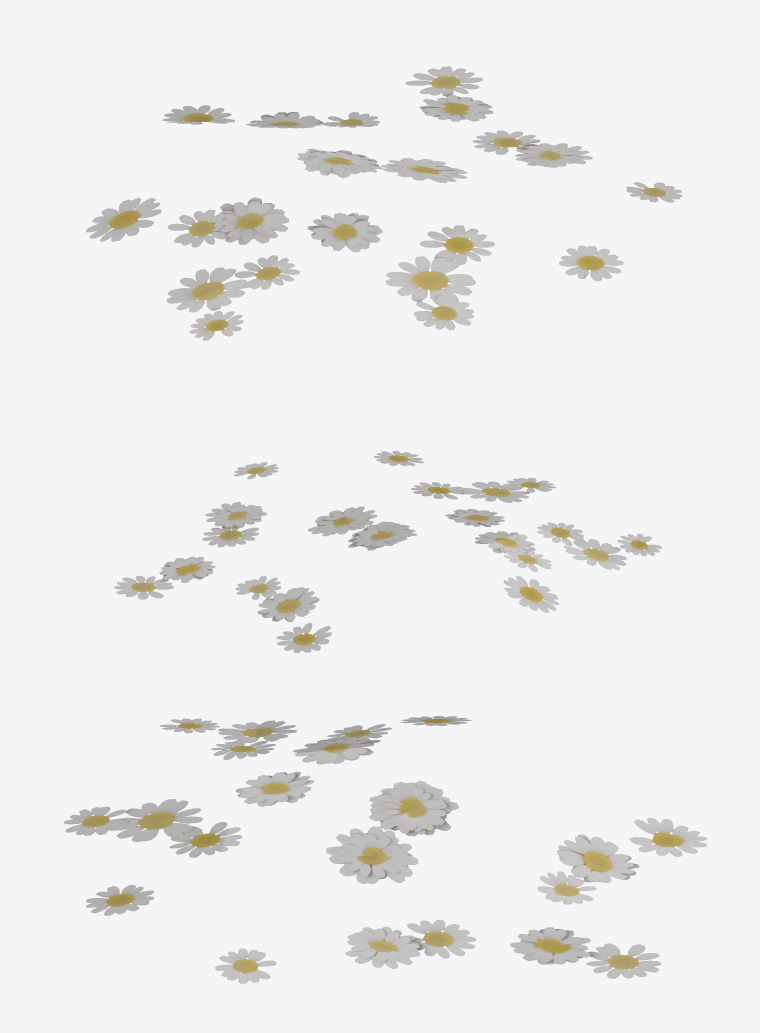
Rendered from Flowers-03.gltf.
3 renders of one model, top to bottom at view 1: azimuth 30°, elevation 25°; view 2: azimuth 150°, elevation 25°; view 3: azimuth 270°, elevation 25°, orthographic. The views are drawn at different scales.
Visible parts, largest first — view 1: Flowers-03; view 2: Flowers-03; view 3: Flowers-03.
Part boxes in pixels (bbox=[...]): Flowers-03: bbox=[86, 66, 682, 340]; Flowers-03: bbox=[114, 451, 661, 652]; Flowers-03: bbox=[64, 716, 706, 983].
Size of the model in its own units: 1.61 by 0.1578 by 1.61.
1 material, 1 textured.
